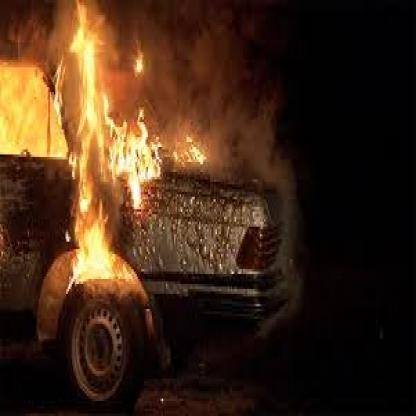fire: (0, 0, 158, 283)
